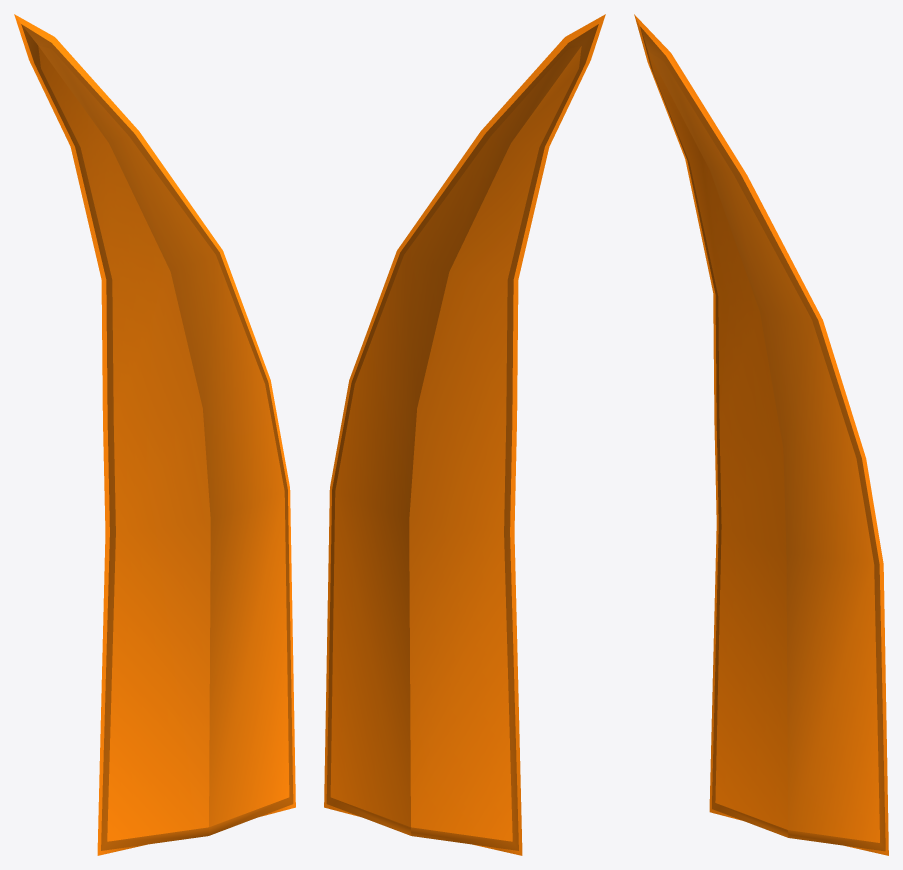
Rendered from bronze_blade (11).glb.
3 views of the same model, side by side, from view 1: azimuth 30°, elevation 25°; view 2: azimuth 150°, elevation 25°; view 3: azimuth 330°, elevation 25° (orthographic). The views are drawn at different scales.
Visible parts, largest first — view 1: bronze_blade_steel.032; view 2: bronze_blade_steel.032; view 3: bronze_blade_steel.032.
Part boxes in pixels (bbox=[...]): bronze_blade_steel.032: bbox=[14, 14, 295, 855]; bronze_blade_steel.032: bbox=[324, 14, 605, 855]; bronze_blade_steel.032: bbox=[634, 14, 888, 855].
Bounding box in the file's own units: 4.2 × 12.29 × 0.7262.
1 material, 1 textured.
